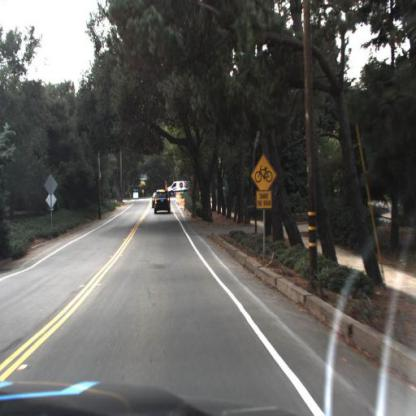car: (152, 188, 173, 218), (150, 191, 158, 211), (151, 191, 159, 209)
truck: (168, 178, 190, 197)
